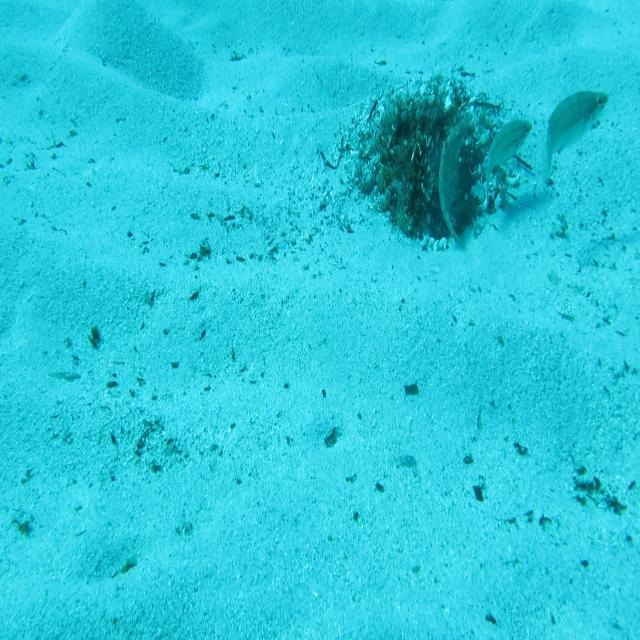FAN: (437, 110, 473, 252)
core_nest: (404, 116, 446, 144)
female: (538, 90, 609, 194), (483, 117, 532, 214)
nest: (339, 70, 522, 256)
